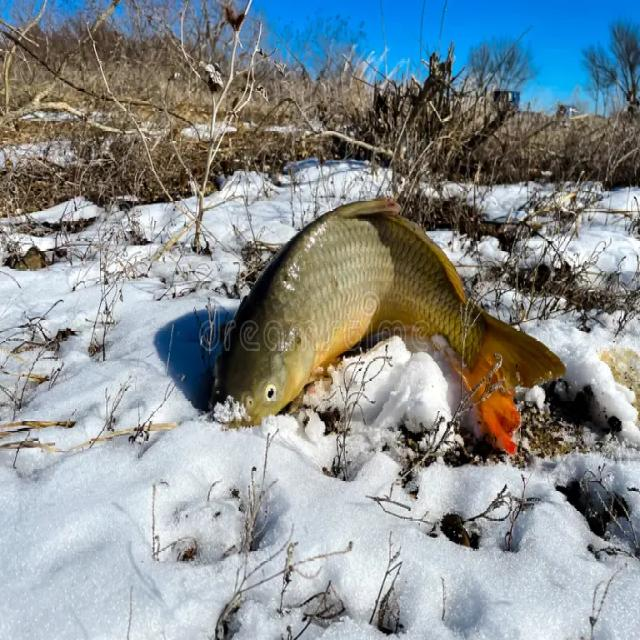Common carp: (215, 204, 570, 453)
